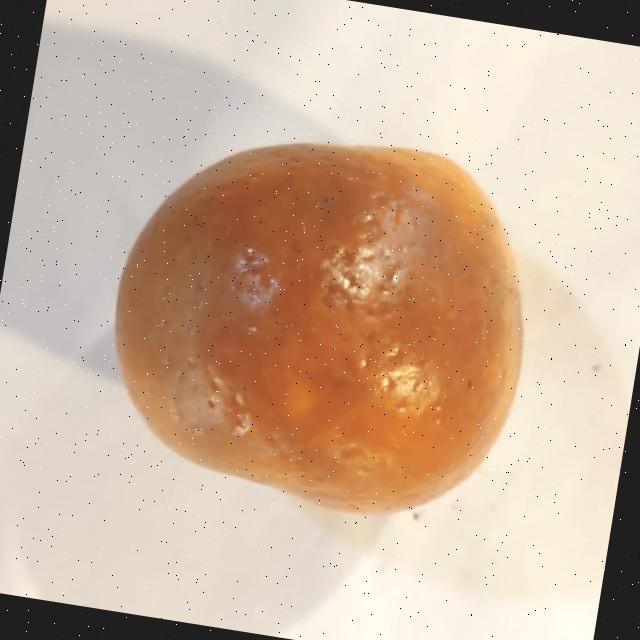Rotten: (88, 108, 553, 542)
